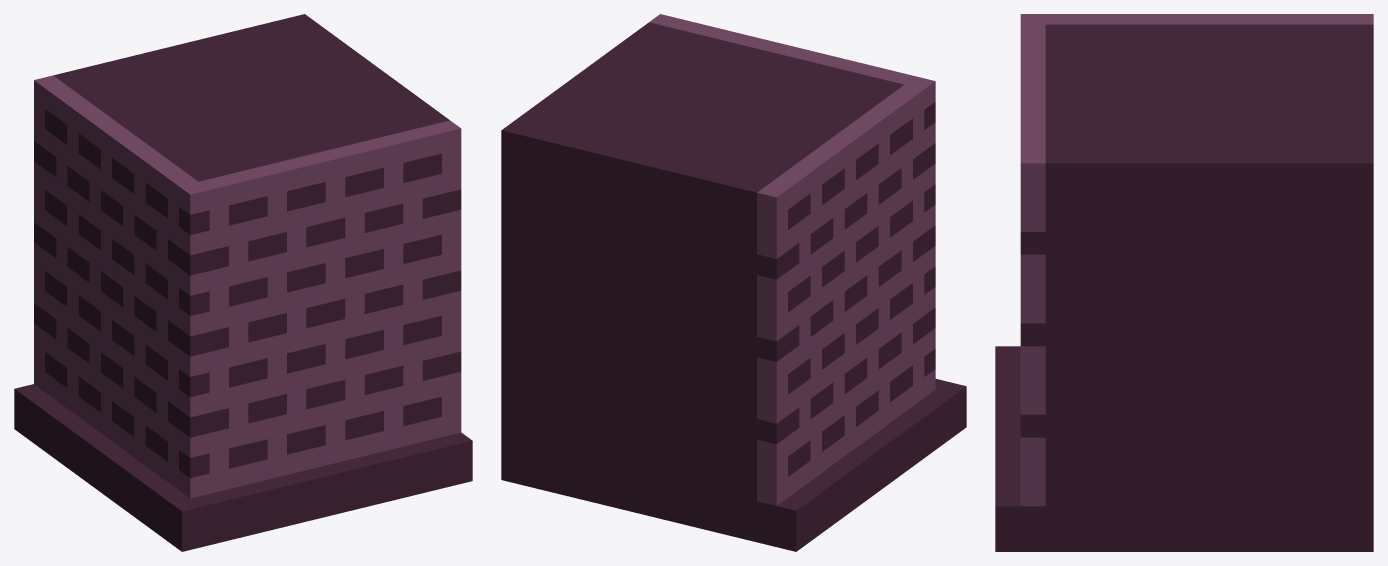
The model's file is dungeon_c_b_outer_wall_corner_a.obj.
3 views of the same model, side by side, from view 1: azimuth 30°, elevation 25°; view 2: azimuth 150°, elevation 25°; view 3: azimuth 270°, elevation 25° (orthographic). The views are drawn at different scales.
Size of the model in its own units: 1.5 by 1.7 by 1.5.
1 material, 1 textured.
